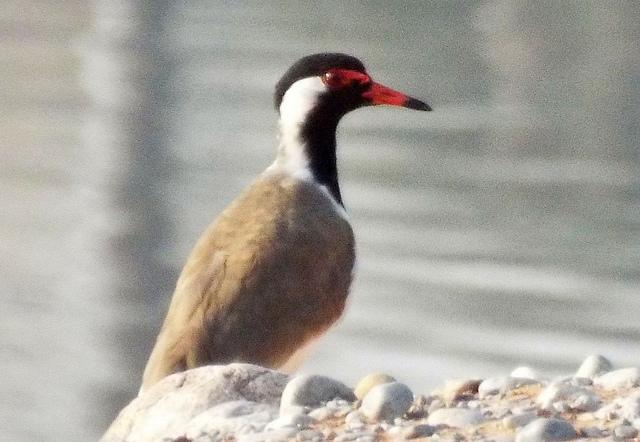bird: (133, 43, 434, 410)
